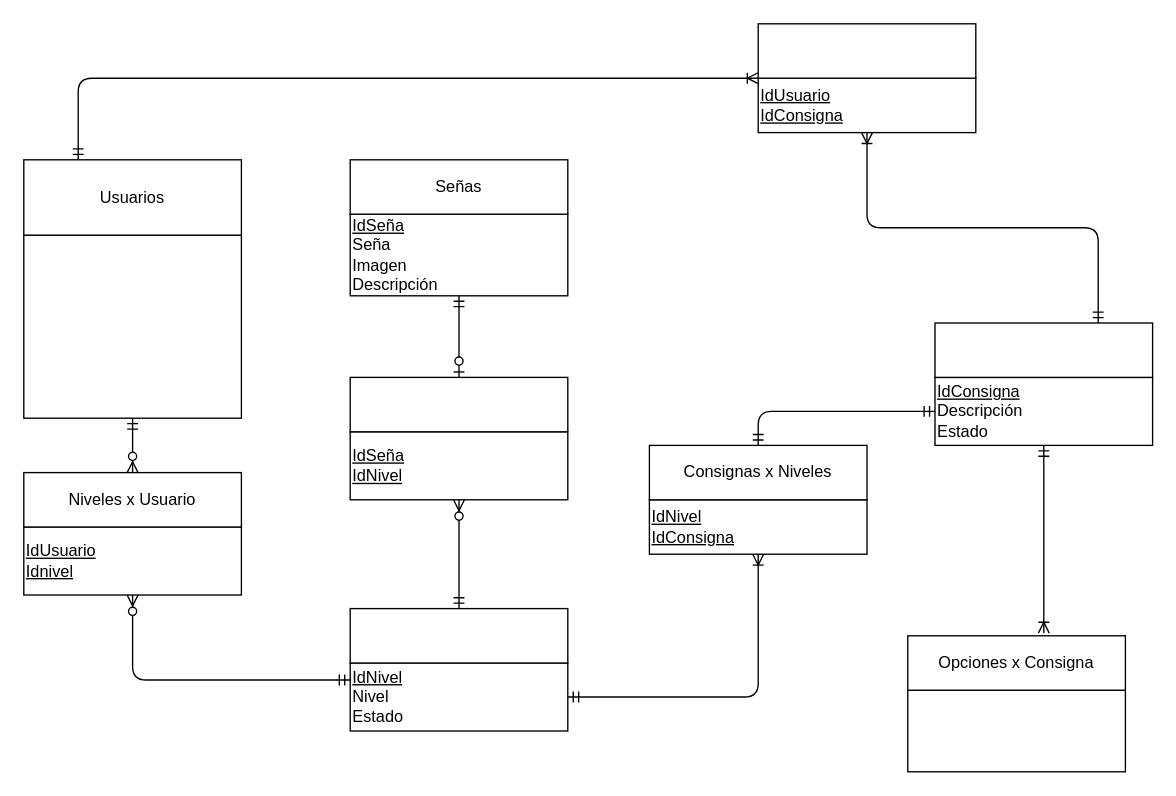
Some shapes in this 1176 by 796 pixel diagram are drawn without their labels. The centre of each missing label's shape, as x and y in pixels:
"Consigna" goes at [1043,349].
"Consignas x Usuario" goes at [866,50].
"IdConsigna IdOpciones Descripcion Resultado" goes at [1015,730].
"IdUsuario Usuario Contraseña Nombre Apellido Email Ubicacion Estado Tipo" goes at [131,326].
"Niveles" goes at [458,635].
"Señas x Nivel" goes at [458,404].
